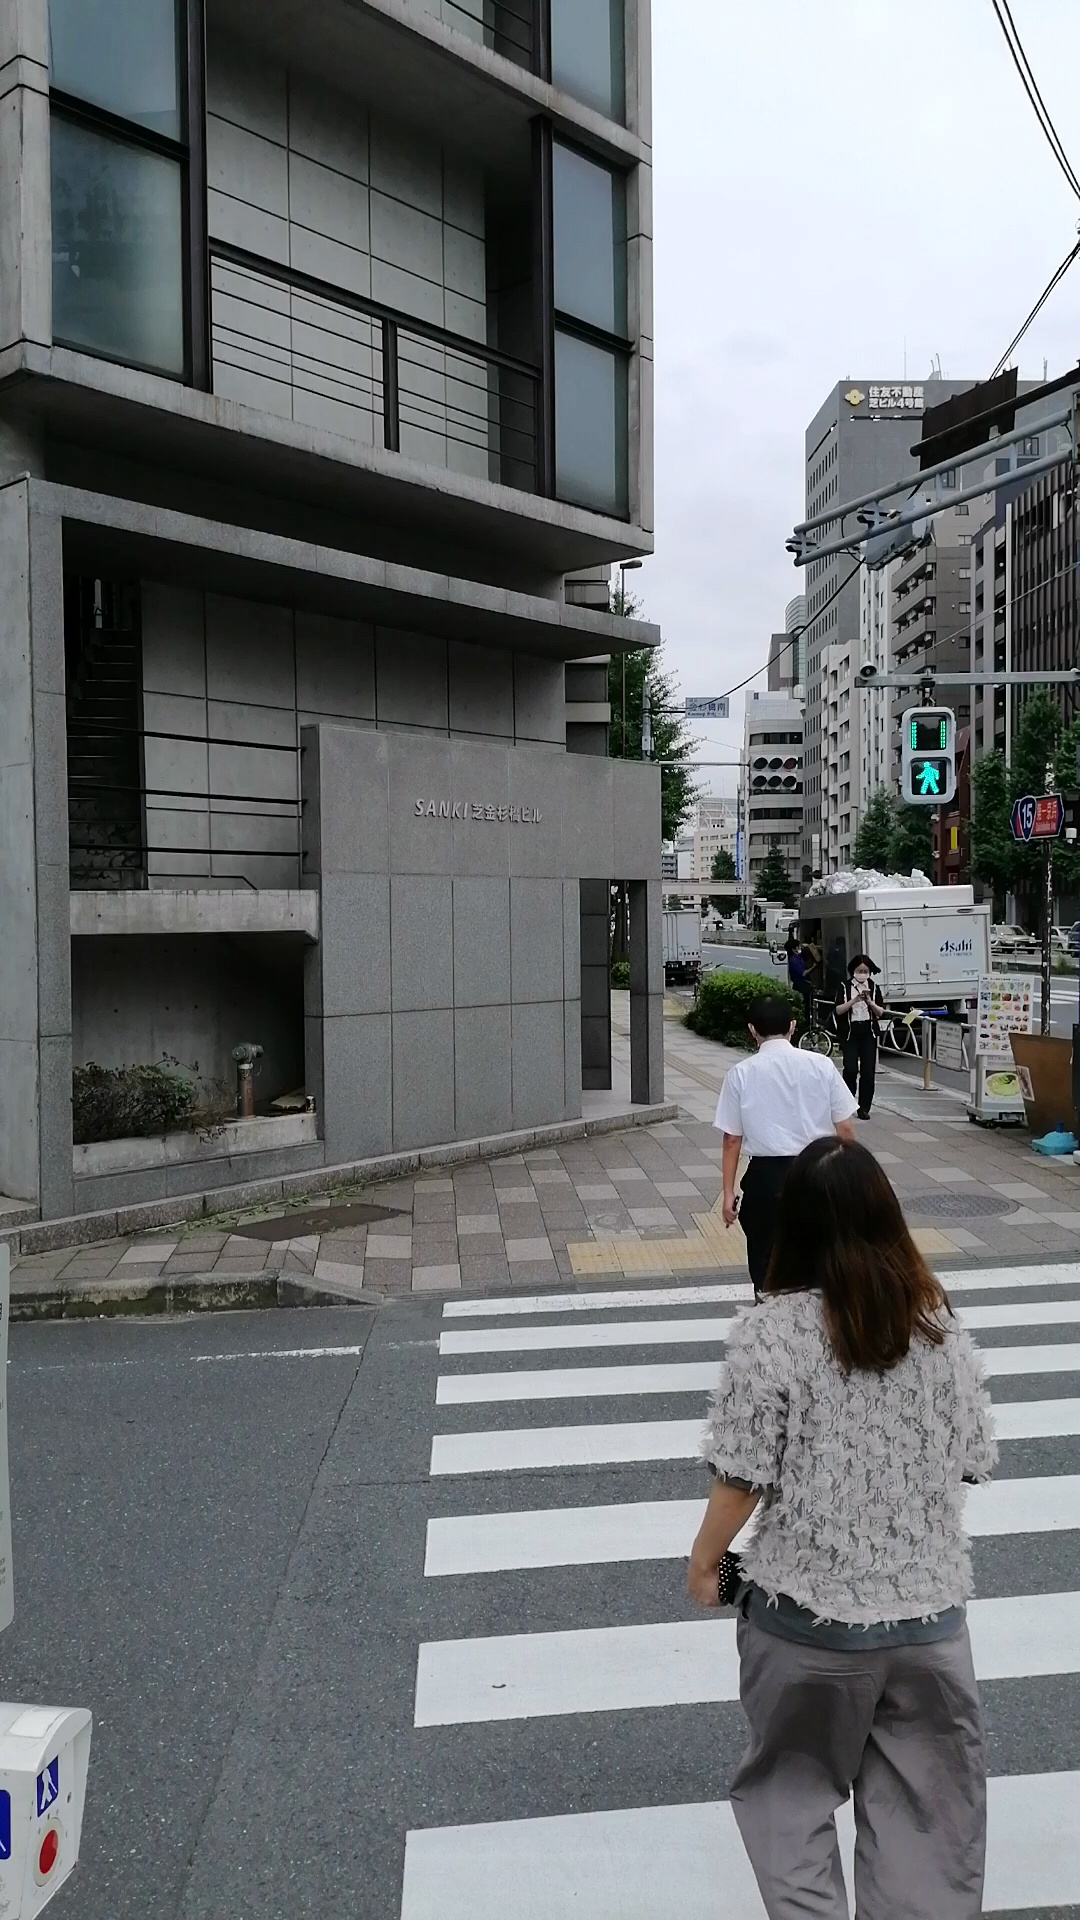green: (899, 705, 956, 807)
